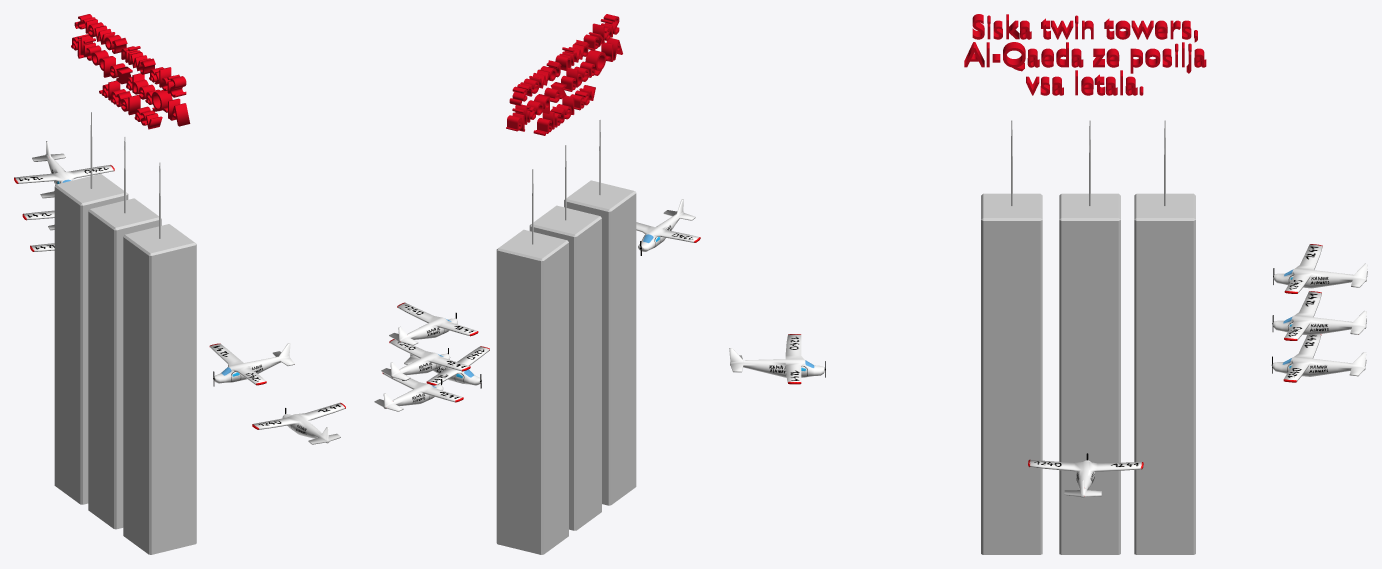
The model's file is atlanta2.glb.
3 views of the same model, side by side, from view 1: azimuth 30°, elevation 25°; view 2: azimuth 150°, elevation 25°; view 3: azimuth 270°, elevation 25° (orthographic). The views are drawn at different scales.
Visible parts, largest first — view 1: Cube.001, Cube.002, Cube.003, Text, Plane.001, Plane, Plane.003; view 2: Cube.003, Cube.001, Cube.002, Text, Plane.003, Plane.002, Plane.004, Plane, Plane.001; view 3: Cube.003, Cube.001, Cube.002, Text, Plane, Plane.002, Plane.003, Plane.004, Plane.001.
Part boxes in pixels (box(x1,y1,x2,y2)): Cube.001: box(123, 162, 196, 554); Cube.002: box(88, 137, 161, 529); Cube.003: box(54, 112, 128, 504); Text: box(71, 14, 190, 129); Plane.001: box(209, 343, 294, 386); Plane: box(252, 402, 345, 444); Plane.003: box(14, 141, 114, 184); Cube.003: box(496, 169, 568, 554); Cube.001: box(564, 119, 636, 505); Cube.002: box(529, 145, 601, 530); Text: box(506, 14, 622, 135); Plane.003: box(389, 302, 478, 345); Plane.002: box(381, 339, 470, 380); Plane.004: box(374, 369, 463, 411); Plane: box(636, 199, 700, 255); Plane.001: box(404, 346, 489, 388); Cube.003: box(1134, 120, 1195, 554); Cube.001: box(981, 120, 1042, 554); Cube.002: box(1059, 120, 1120, 554); Text: box(964, 14, 1206, 95); Plane: box(729, 334, 825, 384); Plane.002: box(1272, 291, 1366, 340); Plane.003: box(1273, 244, 1367, 293); Plane.004: box(1271, 334, 1366, 382); Plane.001: box(1028, 453, 1143, 498).
Bounding box in the file's own units: 7.77 × 18.81 × 20.66.
3 materials, 1 textured.
